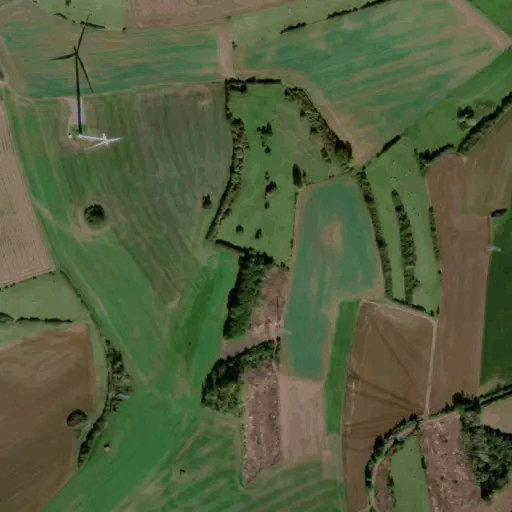wt: (46, 17, 126, 157)
